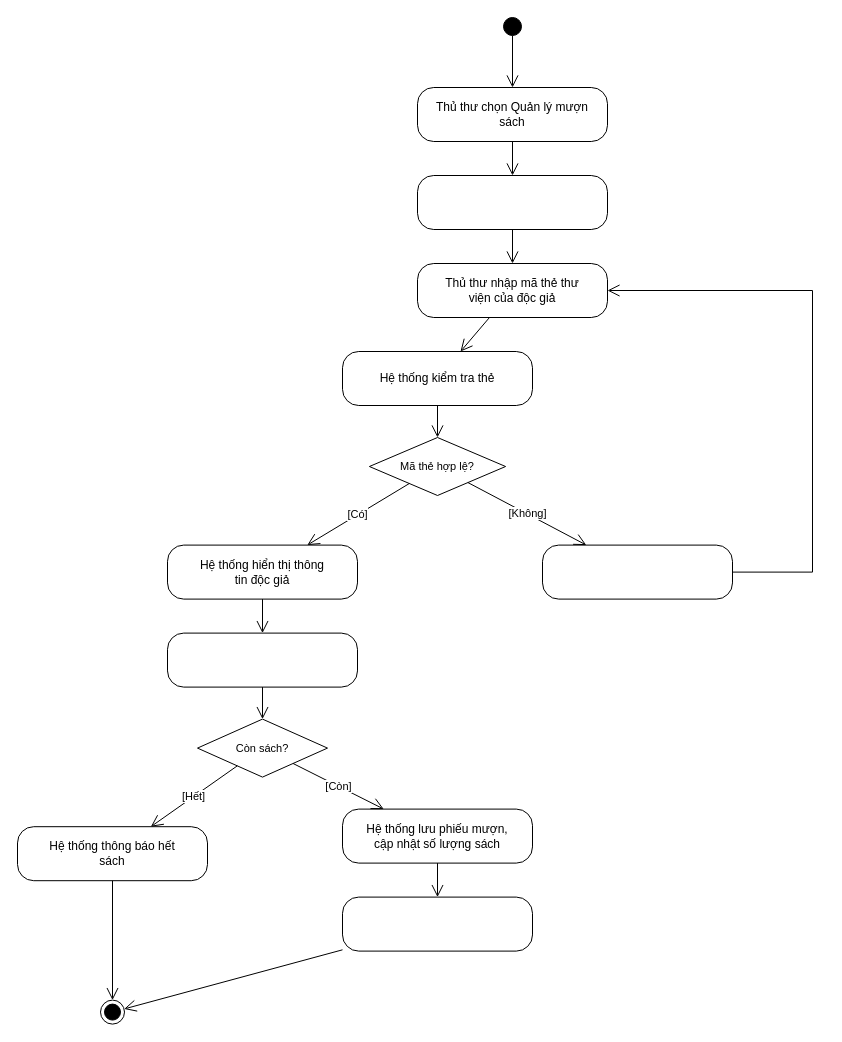
This 842x1042 diagram has some shape labels left out. The shapes that lost their labels are listed below. From the top down, each one's box as (x1, y1, x2, y2) in pixels, then its label:
(416, 174, 608, 230): Hệ thống hiển thị form lập phiếu mượn
(542, 544, 732, 599): Hệ thống thông báo mã thẻ không hợp lệ
(166, 632, 358, 687): Thủ thư chọn sách và nhấn Xác nhận mượn
(342, 896, 532, 951): Hệ thống thông báo thành công
